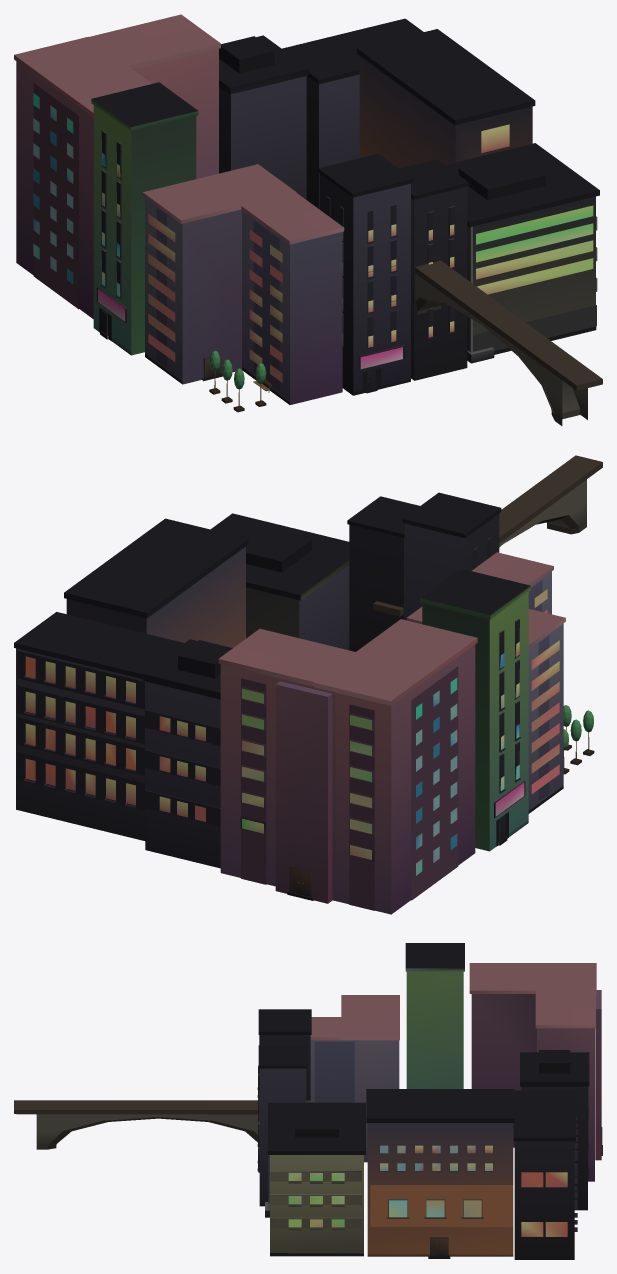
Rendered from bb-mid-ascii.fbx.
3 renders of one model, top to bottom at view 1: azimuth 30°, elevation 25°; view 2: azimuth 150°, elevation 25°; view 3: azimuth 270°, elevation 25°, orthographic. The views are drawn at different scales.
Parts seen in each view (by area): view 1: building-block-mid; view 2: building-block-mid; view 3: building-block-mid.
Part boxes in pixels (left/top/right/bottom): building-block-mid: left=14, top=14, right=602, bottom=425; building-block-mid: left=14, top=455, right=602, bottom=914; building-block-mid: left=14, top=943, right=602, bottom=1259.
Size of the model in its own units: 68.02 by 38.18 by 117.
